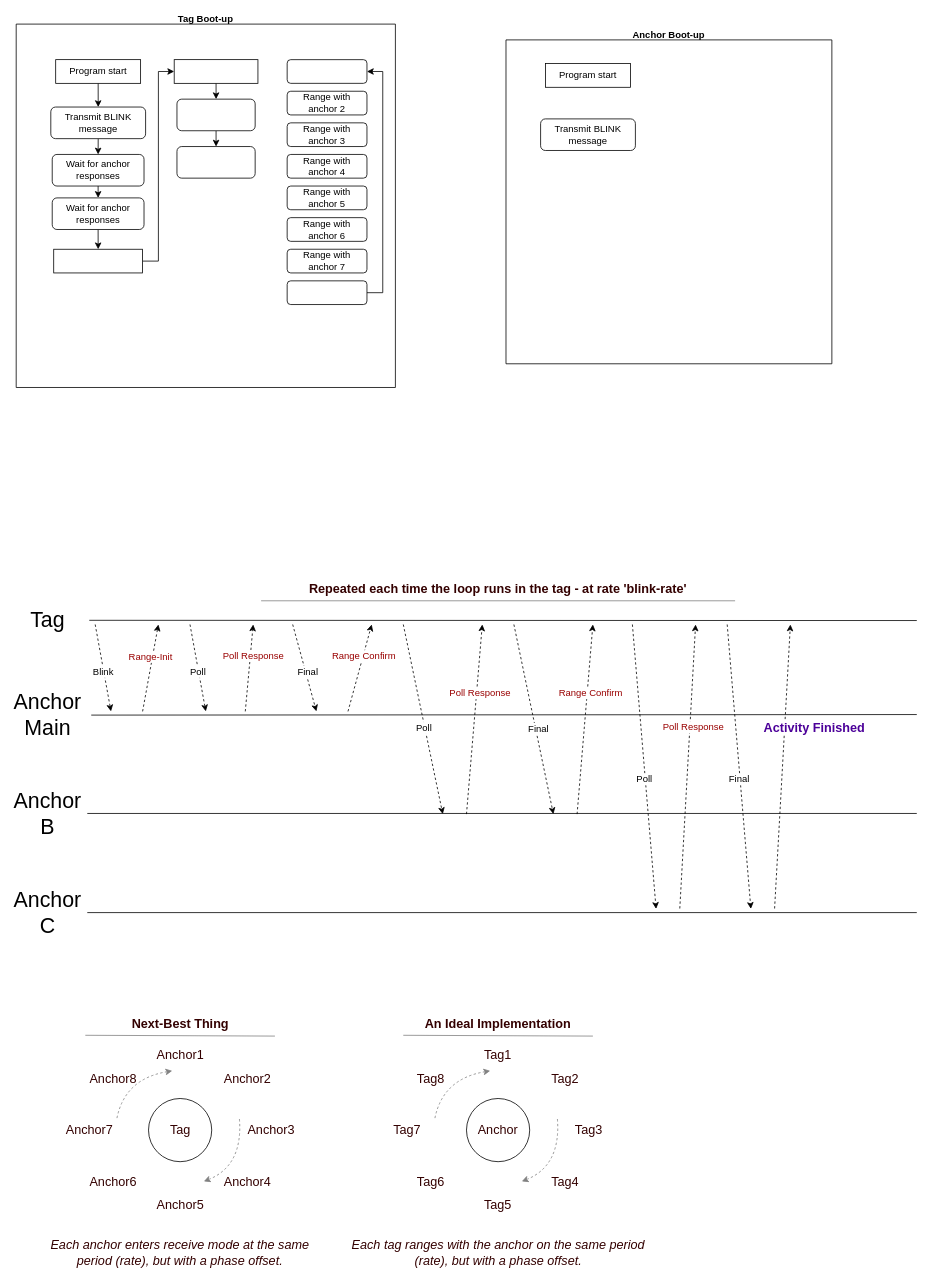
This 931x1281 diagram has some shape labels left out. The shapes that lost their labels are listed below. From the top down, each one's centre as x and y in pixels, then its label:
At pixel 215 71: "Round-robin start".
At pixel 326 71: "Range with anchor 1".
At pixel 215 114: "Send period to anchors".
At pixel 215 162: "Send START to anchors?".
At pixel 98 260: "Binding complete".
At pixel 326 292: "Range with anchor 8".
